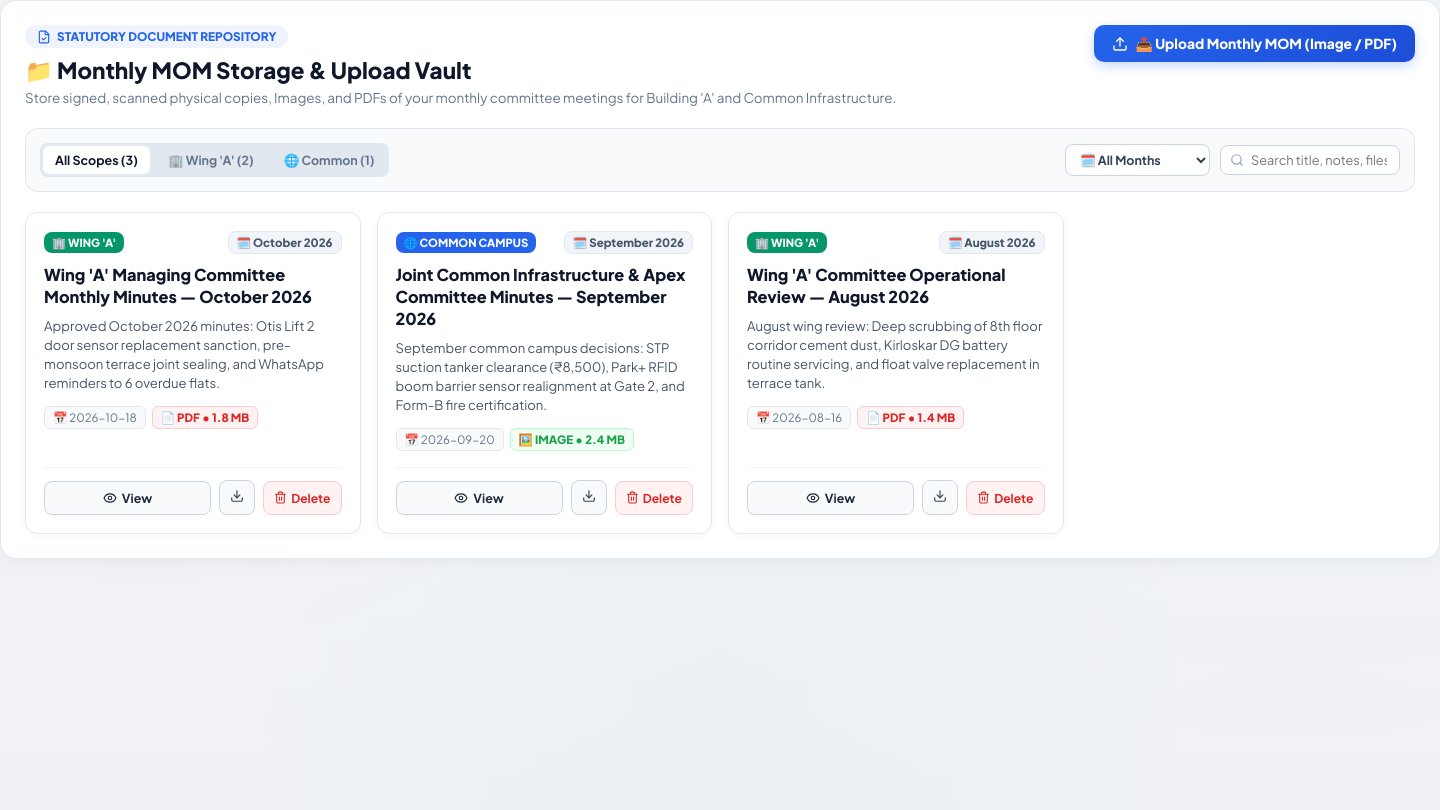
MonthlyMomStorageVault Component › filters archives by scope (Wing A vs Common)
Click Wing A scope filter
Step 1. Click the button with test id "filter-scope-wing-a-btn" → (211, 160), box x1=156 y1=146 x2=266 y2=174
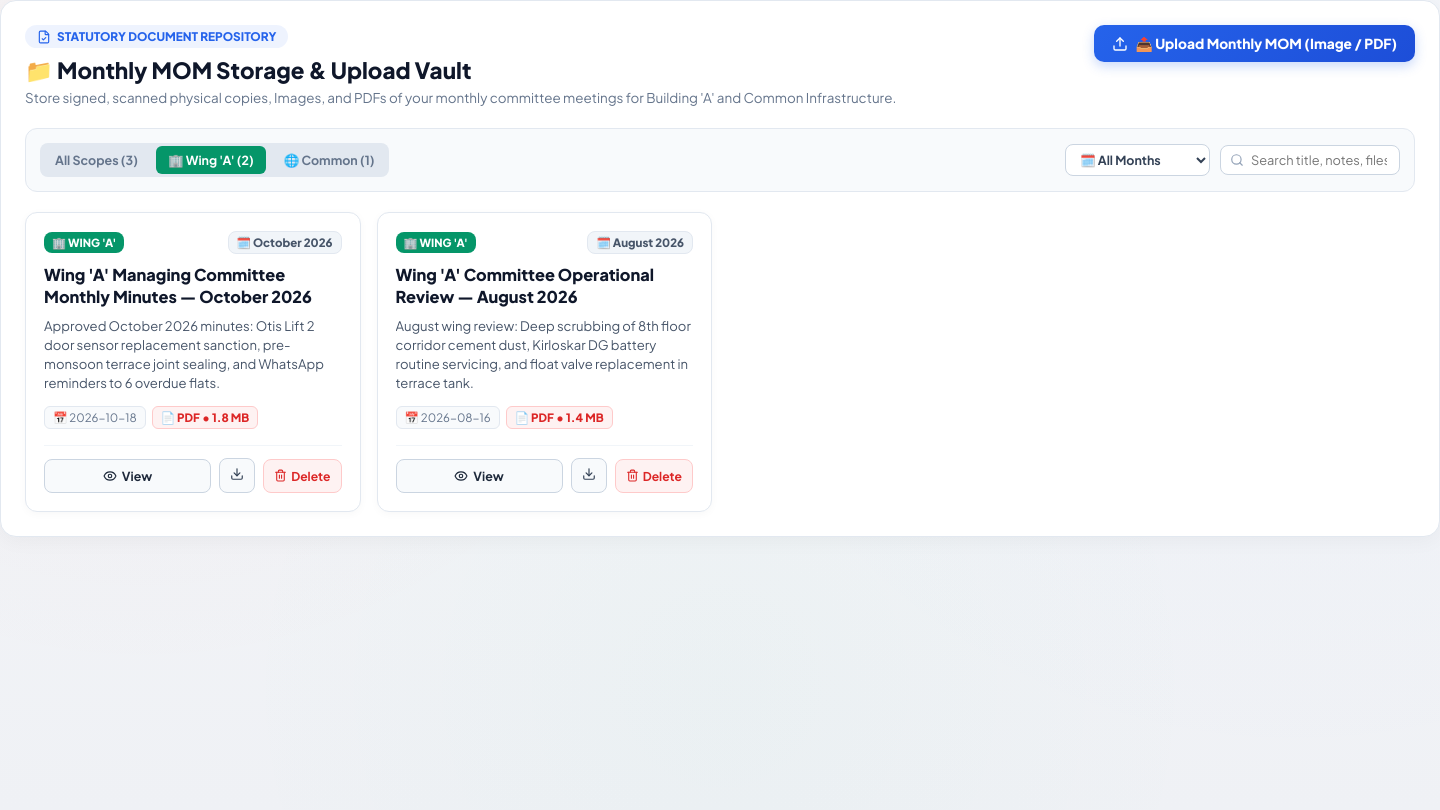
expect the heading "Wing 'A' Managing Committee Monthly Minutes — October 2026" is shown: met, box x1=44 y1=264 x2=342 y2=308
expect the heading "Joint Common Infrastructure & Apex Committee Minutes — September 2026" is gone: met
Click Common scope filter
Step 2. Click the button with test id "filter-scope-common-btn" → (329, 160), box x1=272 y1=146 x2=386 y2=174
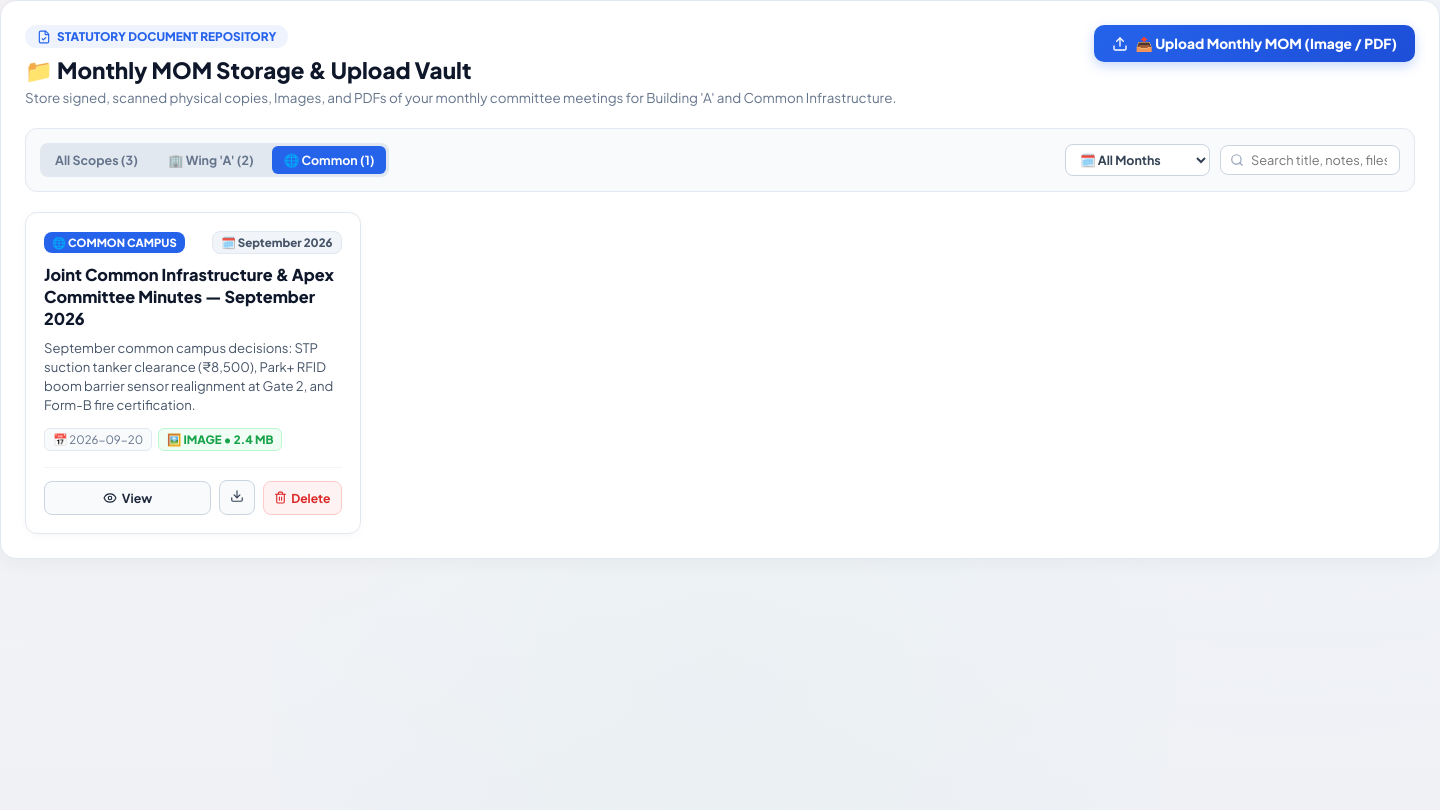
expect the heading "Joint Common Infrastructure & Apex Committee Minutes — September 2026" is shown: met, box x1=44 y1=264 x2=342 y2=330
expect the heading "Wing 'A' Managing Committee Monthly Minutes — October 2026" is gone: met
